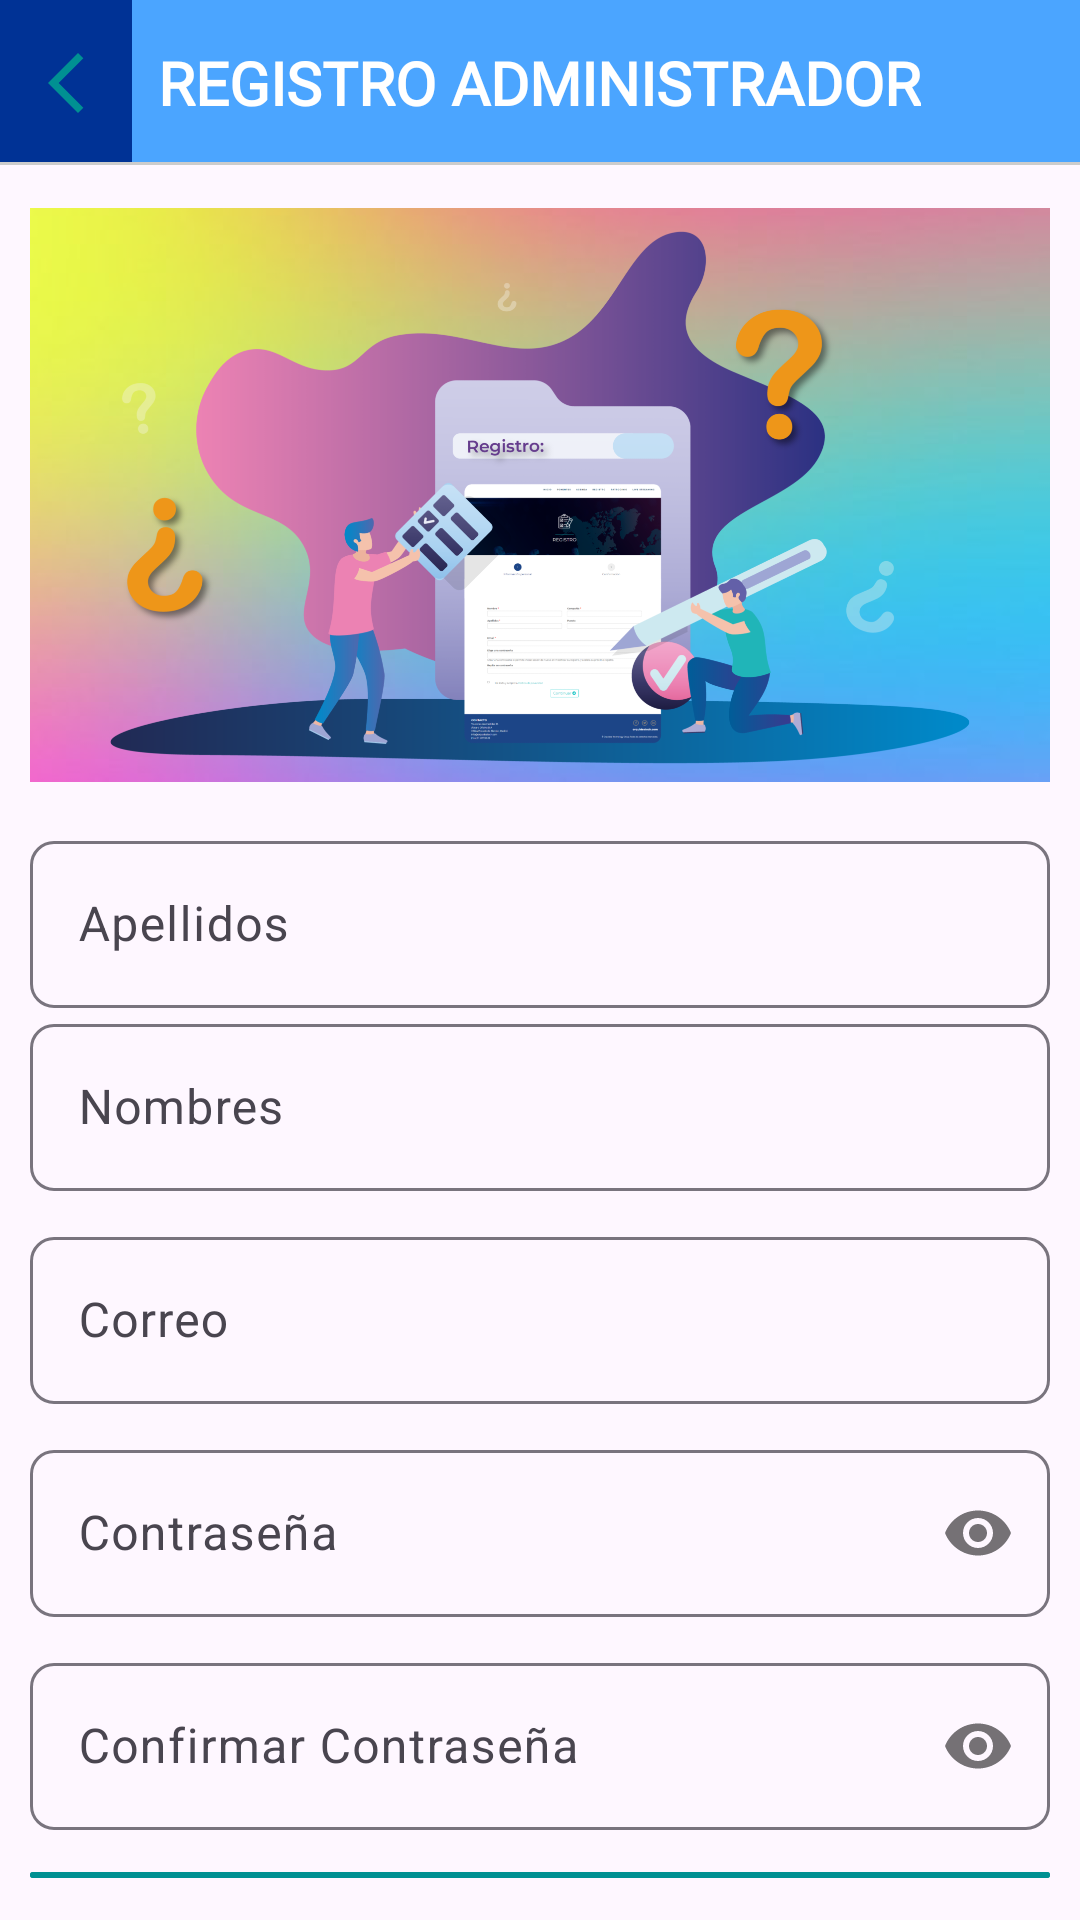

Point at icon controls on the screen. Image size 1080w x 1920h, points as (x=x, y=y).
regresar: (x=66, y=82)
